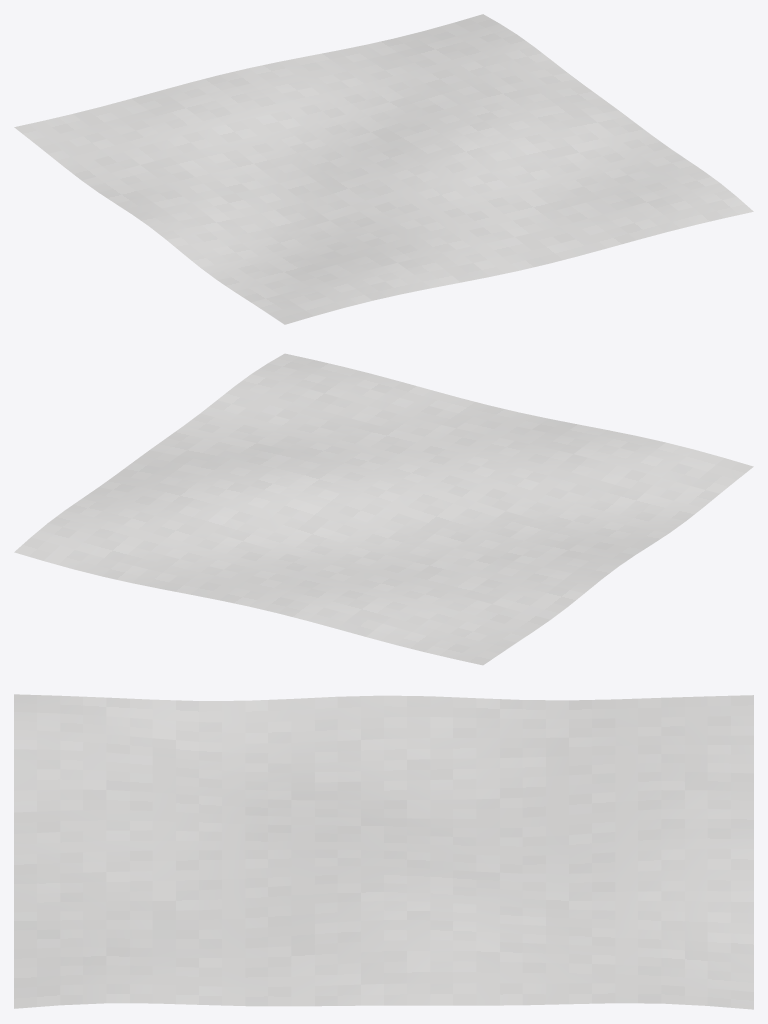
The model's file is central-finland.obj.
The picture shows the model from 3 angles, top to bottom: view 1: azimuth 30°, elevation 25°; view 2: azimuth 150°, elevation 25°; view 3: azimuth 270°, elevation 25°; orthographic projection. The views are drawn at different scales.
Size of the model in its own units: 64 by 1.85 by 64.
Materials: 1 (1 with a texture image).
